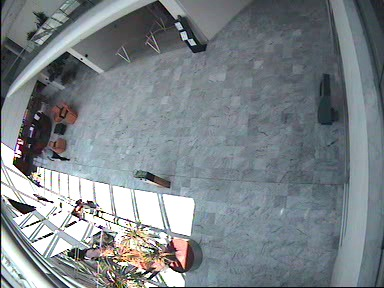person: (70, 198, 101, 217), (39, 147, 69, 161)
